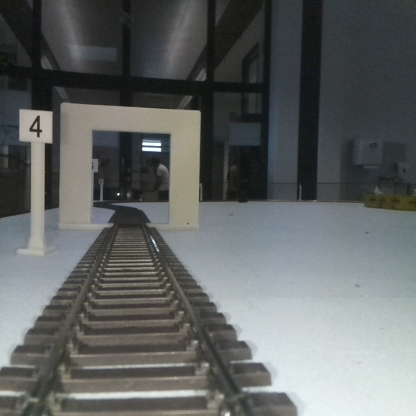white-info-4: (19, 111, 52, 253)
